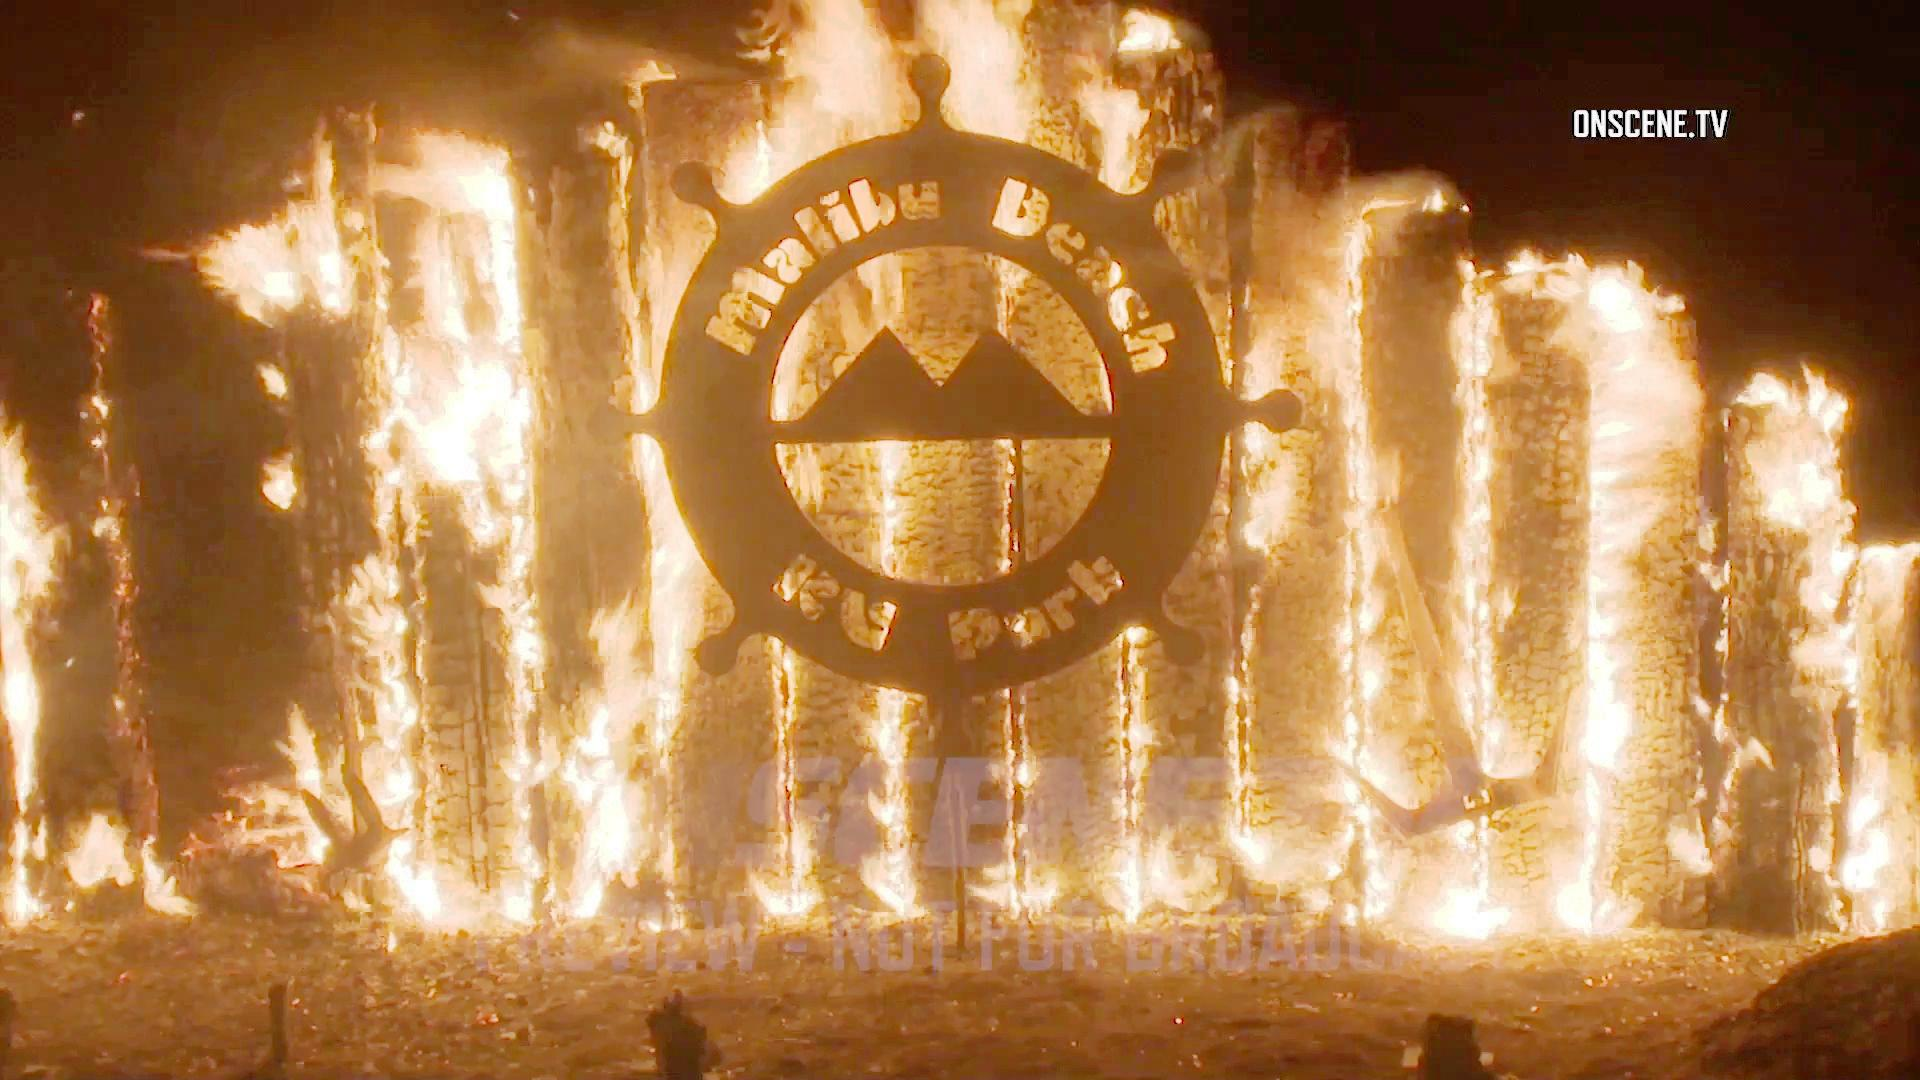fire: (245, 131, 676, 902), (1749, 338, 1919, 928), (1563, 251, 1681, 913), (365, 120, 539, 488)
